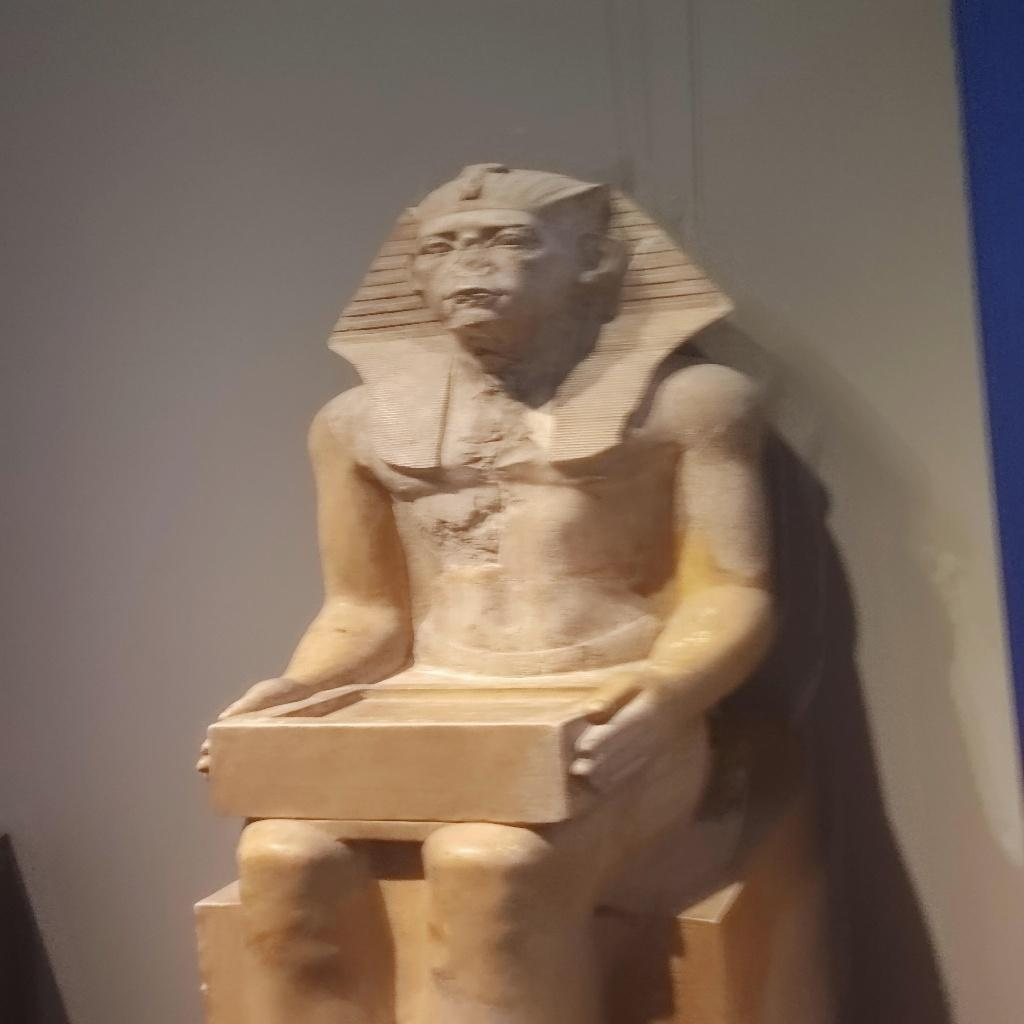Amenhotep III with Plate: (204, 157, 806, 1024)
